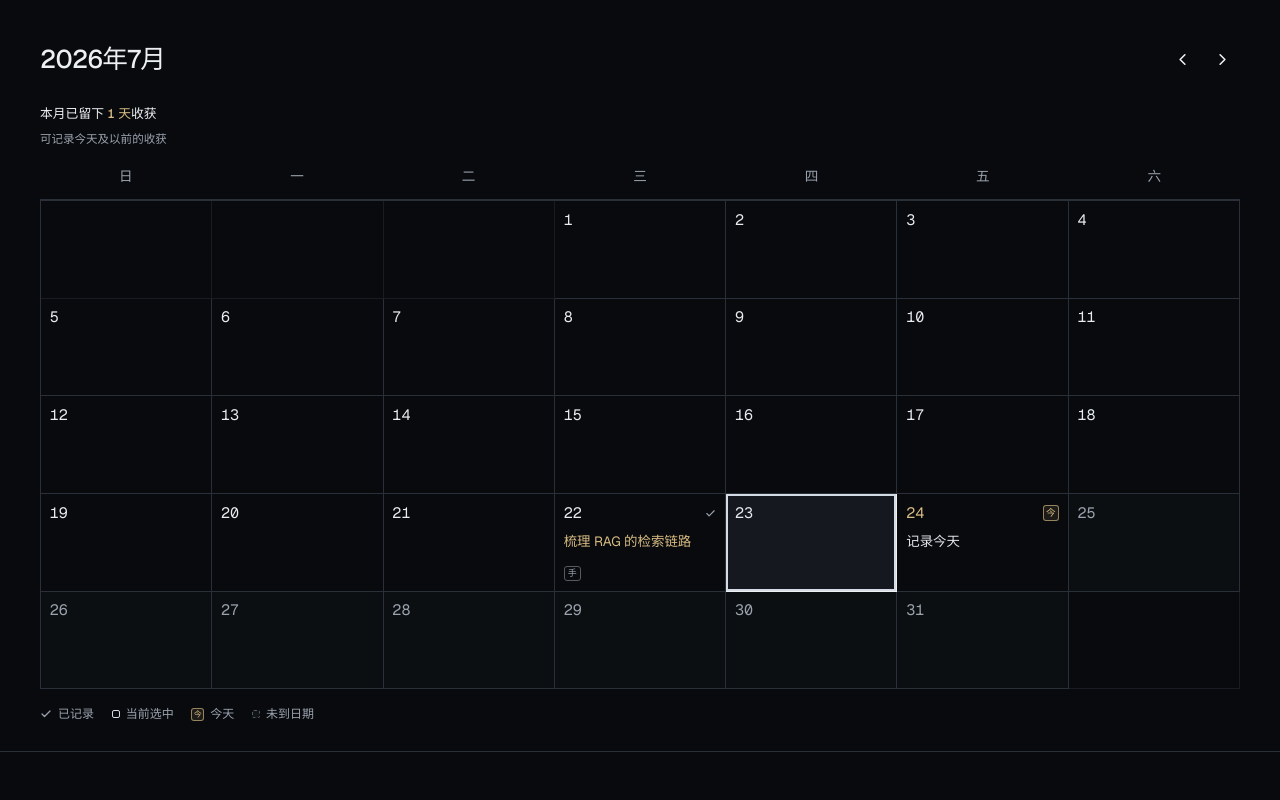
it: MonthCalendar › previews the full saved title on hover without changing the selected date
The image size is (1280, 800).
Hover over the button with aria-label "7月22日，已保存：梳理 RAG 的检索链路" at (640, 543), box top-left (555, 494), bottom-right (726, 592)
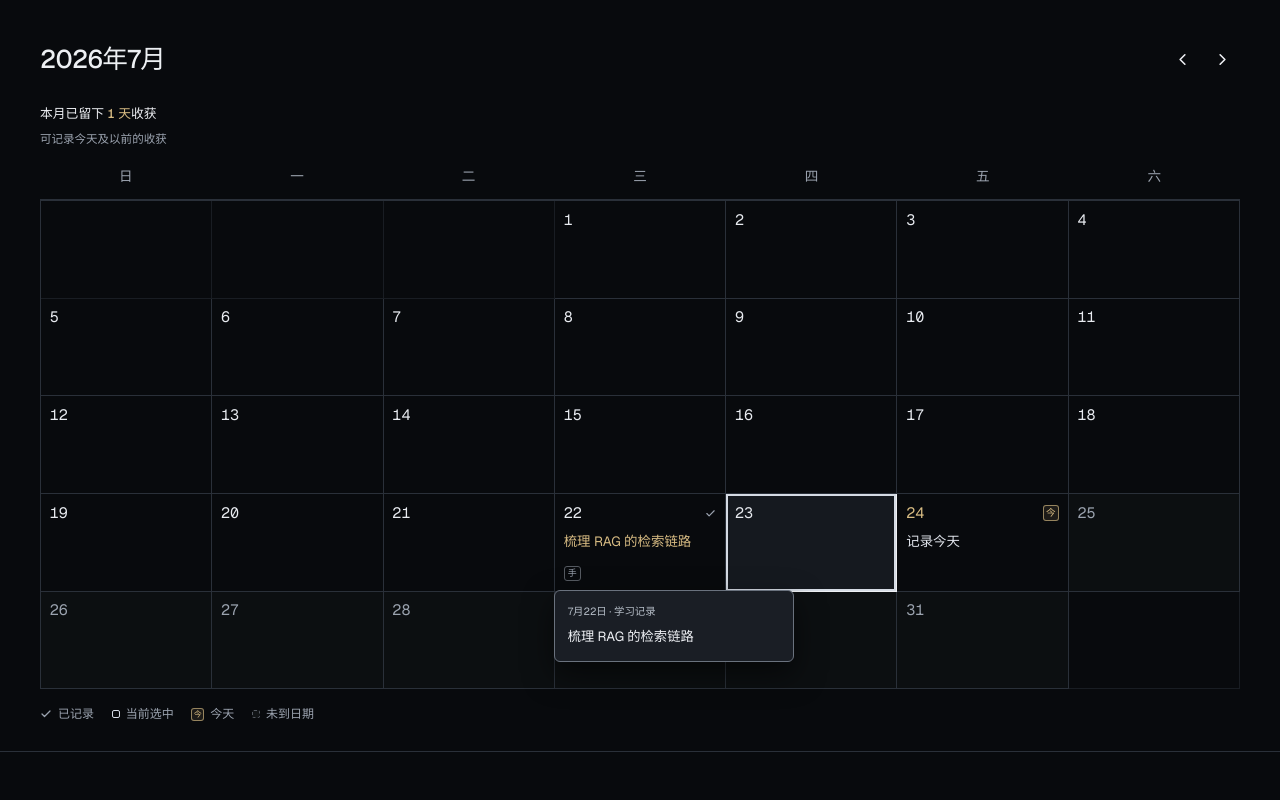
Expected: the tooltip shows "梳理 RAG 的检索链路", top-left (568, 628), bottom-right (694, 645)
Move the pointer off the button with aria-label "7月22日，已保存：梳理 RAG 的检索链路", box top-left (555, 494), bottom-right (726, 592)
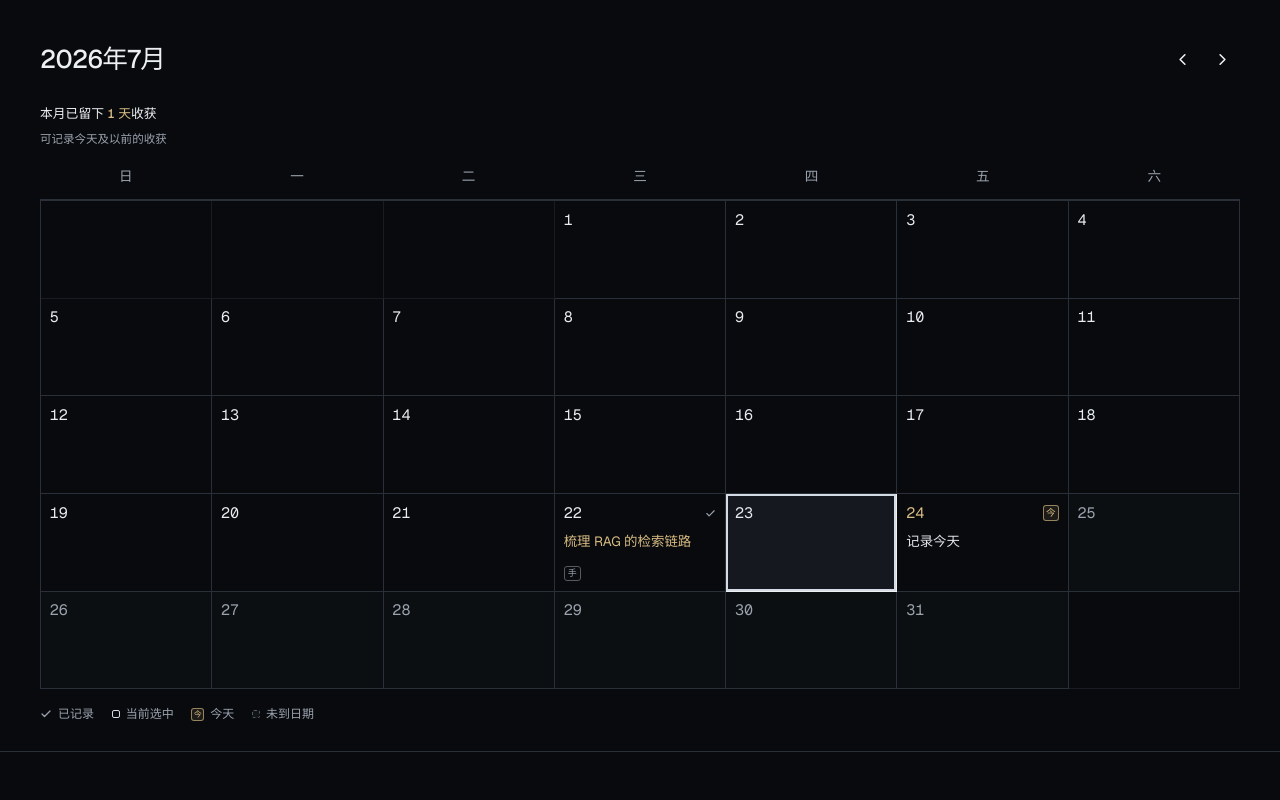
Expected: the tooltip "7月22日 · 学习记录 梳理 RAG 的检索链路" is gone
